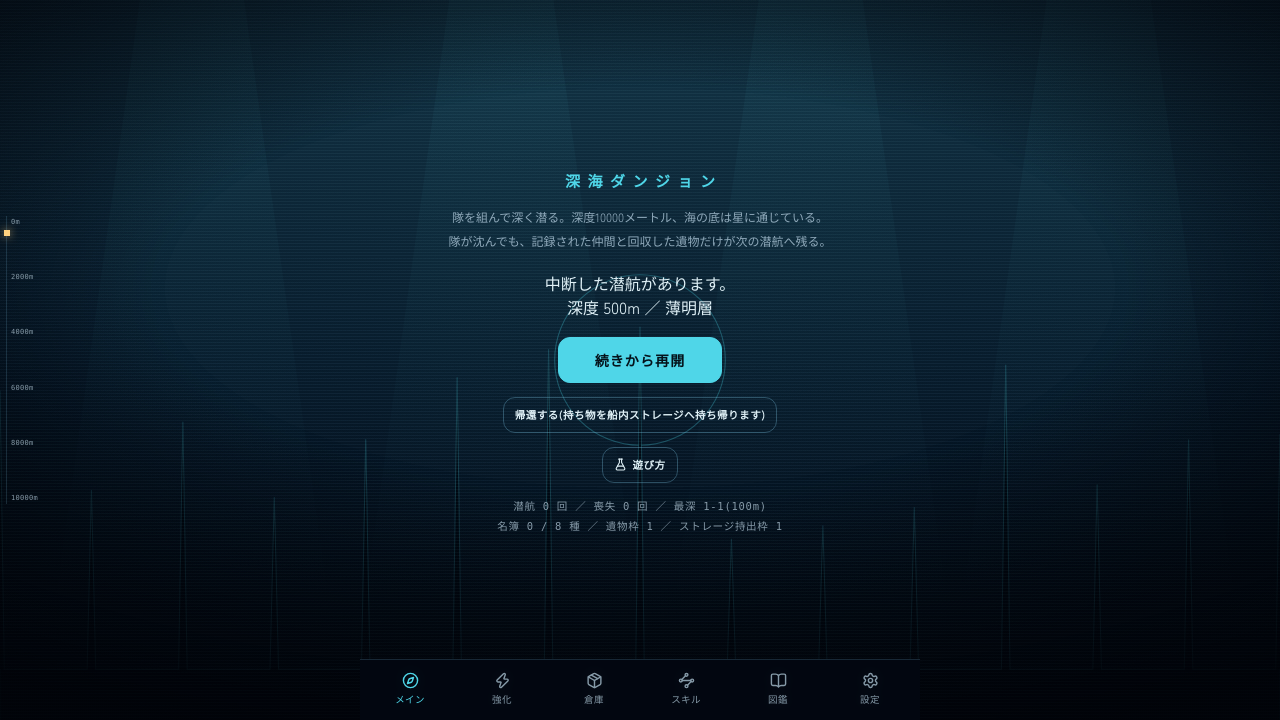
Test: 保護中アイテムのガード › ロック中のアイテムは廃品回収(スクラップ)できない
Click the button "続きから再開".
click(640, 360)  # box [558,337,722,383]
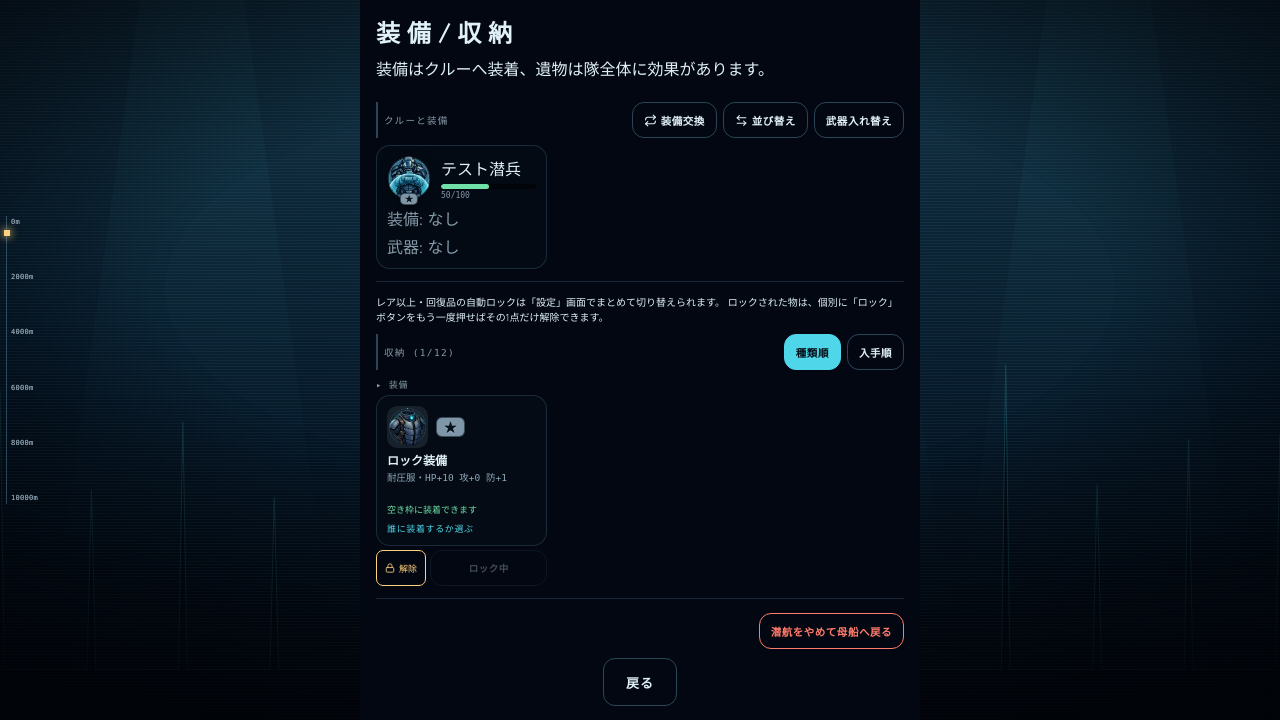
Result: the button "ロック中" is disabled at [430,550,547,586]
